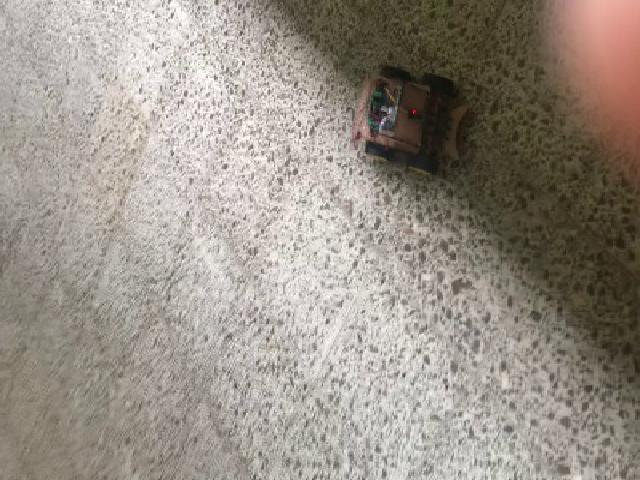Robot: (360, 65, 470, 174)
